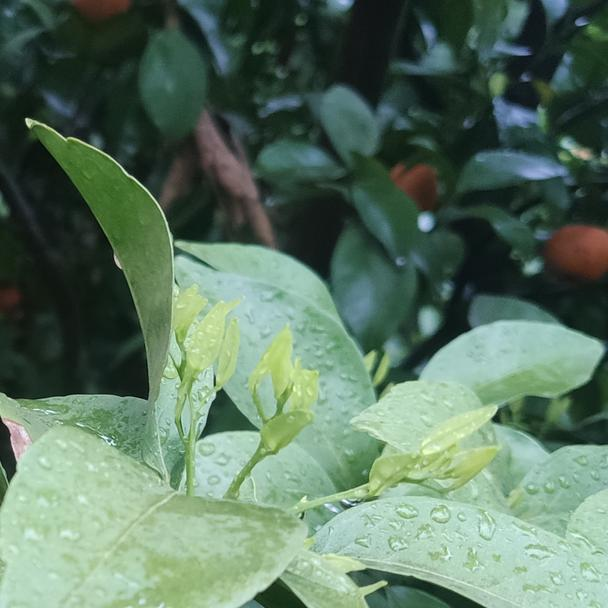shoot: (352, 411, 505, 508), (241, 326, 326, 466), (160, 293, 240, 441)
